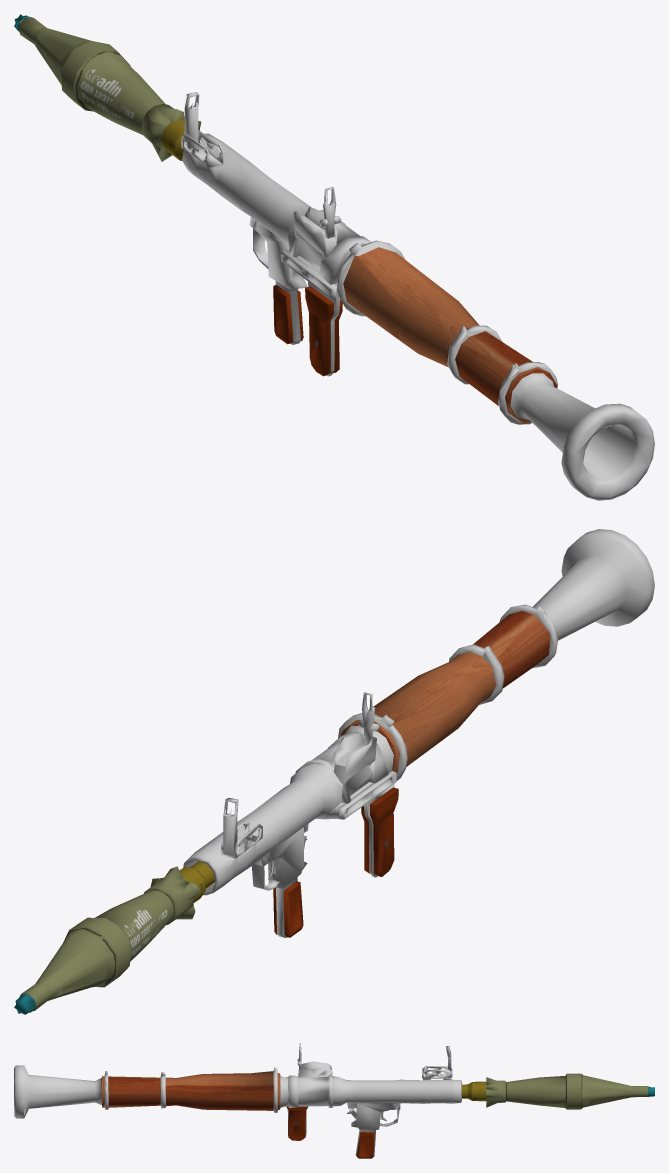
The model's file is rpg.fbx.
3 renders of one model, top to bottom at view 1: azimuth 30°, elevation 25°; view 2: azimuth 150°, elevation 25°; view 3: azimuth 270°, elevation 25°, orthographic. The views are drawn at different scales.
Parts seen in each view (by area): view 1: rpg; view 2: rpg; view 3: rpg.
Boxes of the visible parts, <box> form: rpg: <box>14,14,654,500</box>; rpg: <box>14,529,654,1014</box>; rpg: <box>14,1043,654,1158</box>.
Bounding box in the file's own units: 9.99 × 22.19 × 119.
